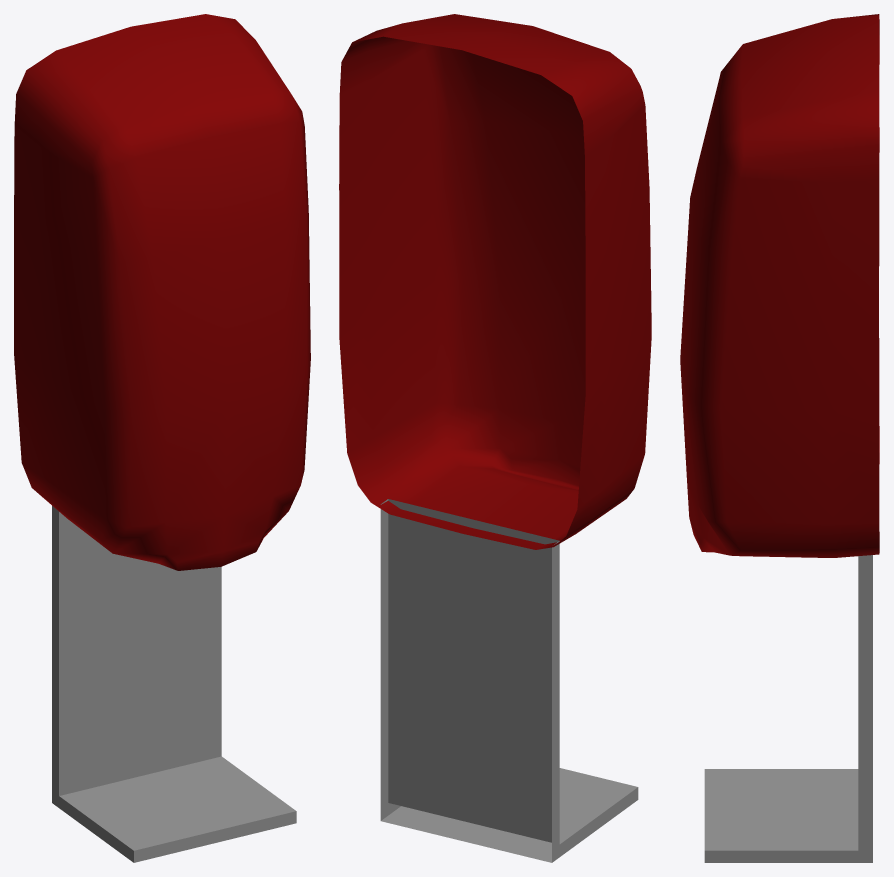
Rendered from SM_WallShelf_01c.FBX.
3 renders of one model, left to right at view 1: azimuth 30°, elevation 25°; view 2: azimuth 150°, elevation 25°; view 3: azimuth 270°, elevation 25°, orthographic. The views are drawn at different scales.
Visible parts, largest first — view 1: SM_WallShelf_01c_LOD0; view 2: SM_WallShelf_01c_LOD0; view 3: SM_WallShelf_01c_LOD0.
Boxes of the visible parts, left/top/right/bottom form: SM_WallShelf_01c_LOD0: left=14, top=14, right=310, bottom=862; SM_WallShelf_01c_LOD0: left=339, top=14, right=651, bottom=862; SM_WallShelf_01c_LOD0: left=680, top=14, right=879, bottom=862.
Size of what is drawn, in the model's own units: 11.23 by 34.59 by 8.08.
